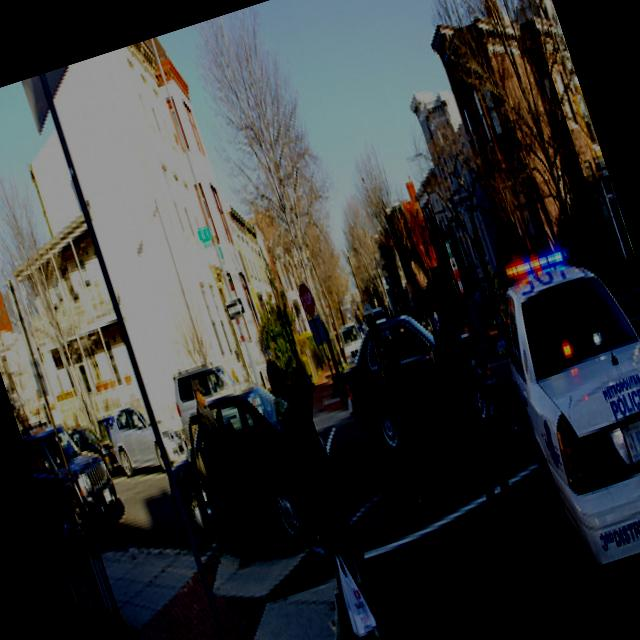Vehicle: (470, 224, 640, 576), (144, 374, 322, 578), (328, 284, 510, 460), (18, 404, 132, 560), (20, 408, 126, 546), (102, 394, 184, 486), (333, 319, 370, 369), (494, 334, 512, 356)
